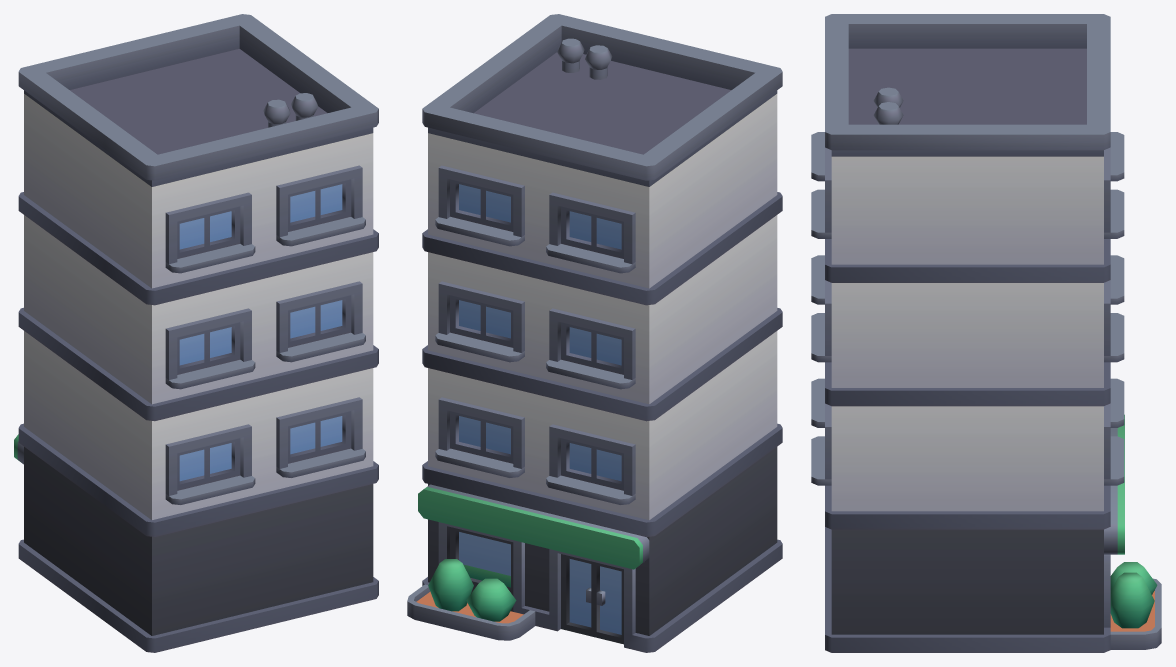
Rendered from k-city-kit-commercial-building-f.glb.
3 renders of one model, left to right at view 1: azimuth 30°, elevation 25°; view 2: azimuth 150°, elevation 25°; view 3: azimuth 270°, elevation 25°, orthographic. The views are drawn at different scales.
Visible parts, largest first — view 1: building-f; view 2: building-f; view 3: building-f.
Boxes of the visible parts, x1,y1,x2,y2 form: building-f: (14, 14, 378, 652); building-f: (407, 14, 782, 652); building-f: (811, 14, 1161, 652).
Bounding box in the file's own units: 0.84 × 1.69 × 1.03.
Materials: 1 (1 with a texture image).
